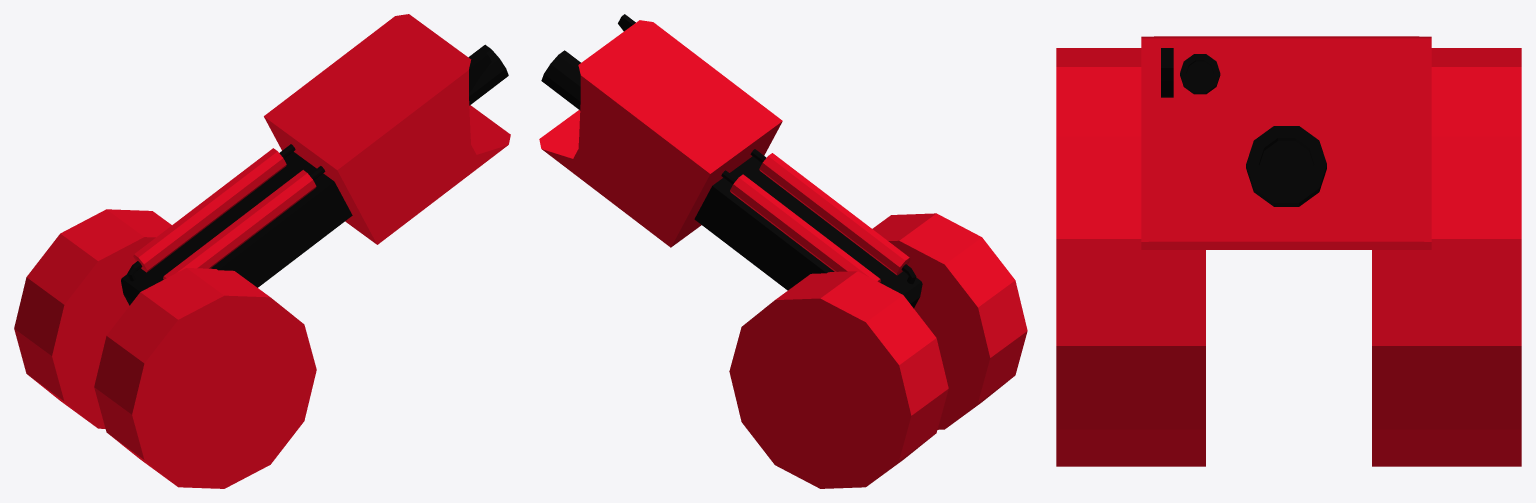
The model's file is cañonero.fbx.
3 views of the same model, side by side, from view 1: azimuth 30°, elevation 25°; view 2: azimuth 150°, elevation 25°; view 3: azimuth 270°, elevation 25° (orthographic). The views are drawn at different scales.
Visible parts, largest first — view 1: Cilindro, cabeza, Cilindro.001, tronco, tuberia izquierda, tuberia derecha, cañon; view 2: Cilindro.001, cabeza, Cilindro, tronco, tuberia derecha, tuberia izquierda, cañon; view 3: cabeza, Cilindro.001, Cilindro, cañon, mira, foco.
Boxes of the visible parts, left/top/right/bottom form: Cilindro: left=94, top=268, right=316, bottom=488; cabeza: left=264, top=14, right=510, bottom=244; Cilindro.001: left=14, top=209, right=171, bottom=428; tronco: left=121, top=151, right=352, bottom=305; tuberia izquierda: left=127, top=144, right=295, bottom=281; tuberia derecha: left=163, top=166, right=325, bottom=279; cañon: left=468, top=44, right=508, bottom=105; Cilindro.001: left=729, top=271, right=948, bottom=488; cabeza: left=539, top=20, right=782, bottom=247; Cilindro: left=872, top=213, right=1027, bottom=429; tronco: left=694, top=156, right=922, bottom=308; tuberia derecha: left=750, top=149, right=916, bottom=284; tuberia izquierda: left=721, top=170, right=880, bottom=282; cañon: left=541, top=50, right=580, bottom=110; cabeza: left=1141, top=36, right=1431, bottom=249; Cilindro.001: left=1372, top=48, right=1521, bottom=466; Cilindro: left=1056, top=48, right=1205, bottom=466; cañon: left=1246, top=126, right=1326, bottom=206; mira: left=1180, top=54, right=1220, bottom=94; foco: left=1161, top=48, right=1173, bottom=97.
Bounding box in the file's own units: 242 × 185 × 115.
